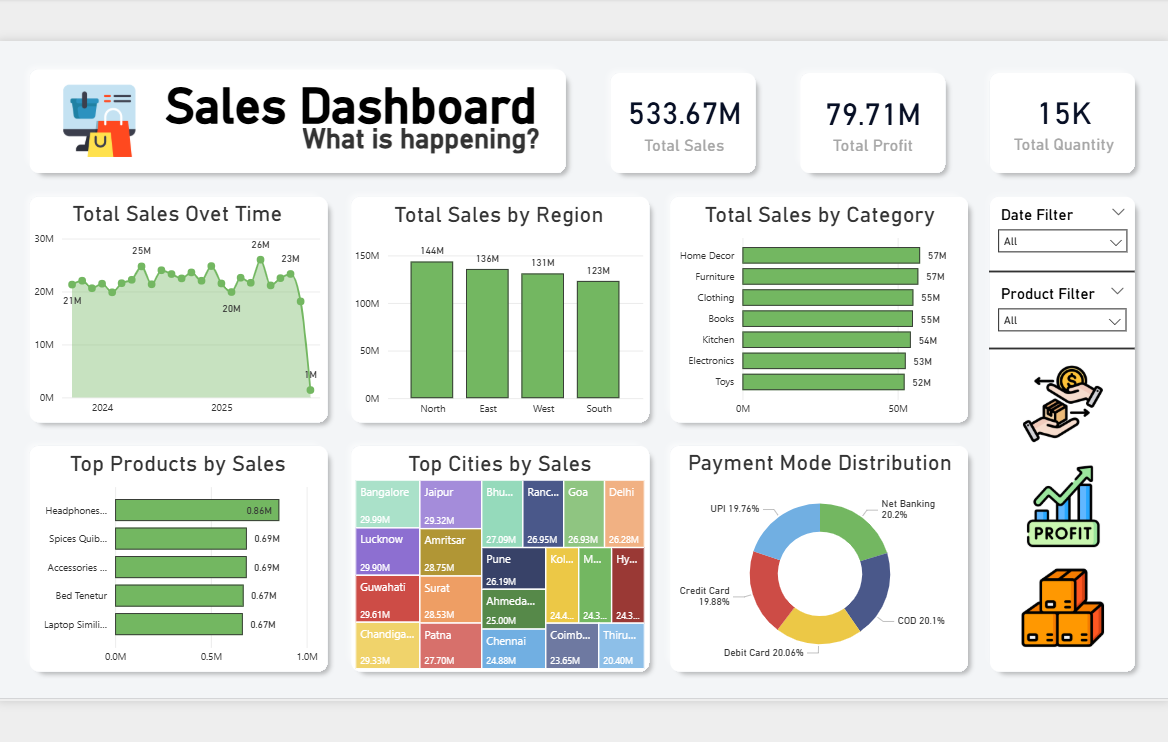

The page's visual inventory and layout, read from the dashboard file:
{"tool":"powerbi","page":{"name":"Sales","canvas":[1280,720],"ordinal":0},"visuals":[{"type":"shape","box":[152.3,31,467.1,80],"z":0},{"type":"image","box":[51.6,42.6,121.3,89],"z":1000},{"type":"card","fields":{"Values":["Ecommerce_Sales_Data_2024_2025.Total Sales"]},"box":[669.7,31,160,112.3],"z":2000},{"type":"card","fields":{"Values":["Ecommerce_Sales_Data_2024_2025.Total Profit"]},"box":[876.2,31.6,159.3,111.3],"z":3000},{"type":"card","fields":{"Values":["Ecommerce_Sales_Data_2024_2025.Total Quantity"]},"box":[1084.7,30.6,159.3,111.3],"z":4000},{"type":"areaChart","title":"Total Sales Ovet Time","fields":{"Category":["Ecommerce_Sales_Data_2024_2025.Order Date.Variation.Date Hierarchy.Year","Ecommerce_Sales_Data_2024_2025.Order Date.Variation.Date Hierarchy.Quarter","Ecommerce_Sales_Data_2024_2025.Order Date.Variation.Date Hierarchy.Month","Ecommerce_Sales_Data_2024_2025.Order Date.Variation.Date Hierarchy.Day"],"Y":["Ecommerce_Sales_Data_2024_2025.Total Sales"]},"box":[34.9,174.6,324.1,243.3],"z":5000},{"type":"clusteredColumnChart","fields":{"Category":["Ecommerce_Sales_Data_2024_2025.Region"],"Y":["Ecommerce_Sales_Data_2024_2025.Total Sales"]},"box":[385.1,175.2,325.1,243.1],"z":6000},{"type":"clusteredBarChart","fields":{"Category":["Ecommerce_Sales_Data_2024_2025.Category"],"Y":["Ecommerce_Sales_Data_2024_2025.Total Sales"]},"box":[735.5,175.2,325.1,243.1],"z":7000},{"type":"clusteredBarChart","title":"Top Products by Sales","fields":{"Y":["Ecommerce_Sales_Data_2024_2025.Total Sales"],"Category":["Ecommerce_Sales_Data_2024_2025.Product Name"]},"box":[34.9,447.4,325.2,242.3],"z":8000},{"type":"treemap","title":"Top Cities by Sales","fields":{"Group":["Ecommerce_Sales_Data_2024_2025.City"],"Values":["Ecommerce_Sales_Data_2024_2025.Total Sales"]},"box":[385.8,447.7,325.2,242.6],"z":9000},{"type":"donutChart","title":"Payment Mode Distribution","fields":{"Category":["Ecommerce_Sales_Data_2024_2025.Payment Mode"],"Y":["CountNonNull(Ecommerce_Sales_Data_2024_2025.Order ID)"]},"box":[735.5,446.3,325.2,243.3],"z":10000},{"type":"slicer","fields":{"Values":["Ecommerce_Sales_Data_2024_2025.Order Date.Variation.Date Hierarchy.Year","Ecommerce_Sales_Data_2024_2025.Order Date.Variation.Date Hierarchy.Month"]},"box":[1082.6,174.2,161.3,71],"z":11000},{"type":"slicer","fields":{"Values":["Ecommerce_Sales_Data_2024_2025.Product Details.Category","Ecommerce_Sales_Data_2024_2025.Product Details.Sub-Category","Ecommerce_Sales_Data_2024_2025.Product Details.Product Name"]},"box":[1082.6,260.6,160,71],"z":12000},{"type":"shape","box":[1082.4,245.5,159.3,12],"z":13000},{"type":"shape","box":[1082.4,331.7,159.3,7.6],"z":14000},{"type":"image","box":[1112.7,457.8,100.4,99.3],"z":15000},{"type":"image","box":[1112.7,568.5,100.4,100.4],"z":16000},{"type":"image","box":[1112.7,345.9,100.4,100.4],"z":17000},{"type":"shape","box":[280,80,365.2,51.6],"z":18000}]}

Visuals, with their boxes on the page's 1280x720 design canvas (x1, y1, x2, y2). These are canvas units, not pixel positions in the 1168x742 screenshot, which may show the page scaled, cropped or inside an application window:
shape: bbox=(152, 31, 619, 111)
image: bbox=(52, 43, 173, 132)
card - Ecommerce_Sales_Data_2024_2025.Total Sales: bbox=(670, 31, 830, 143)
card - Ecommerce_Sales_Data_2024_2025.Total Profit: bbox=(876, 32, 1036, 143)
card - Ecommerce_Sales_Data_2024_2025.Total Quantity: bbox=(1085, 31, 1244, 142)
"Total Sales Ovet Time" areaChart: bbox=(35, 175, 359, 418)
clusteredColumnChart - Ecommerce_Sales_Data_2024_2025.Region x Ecommerce_Sales_Data_2024_2025.Total Sales: bbox=(385, 175, 710, 418)
clusteredBarChart - Ecommerce_Sales_Data_2024_2025.Category x Ecommerce_Sales_Data_2024_2025.Total Sales: bbox=(736, 175, 1061, 418)
"Top Products by Sales" clusteredBarChart: bbox=(35, 447, 360, 690)
"Top Cities by Sales" treemap: bbox=(386, 448, 711, 690)
"Payment Mode Distribution" donutChart: bbox=(736, 446, 1061, 690)
slicer - Ecommerce_Sales_Data_2024_2025.Order Date.Variation.Date Hierarchy.Year x Ecommerce_Sales_Data_2024_2025.Order Date.Variation.Date Hierarchy.Month: bbox=(1083, 174, 1244, 245)
slicer - Ecommerce_Sales_Data_2024_2025.Product Details.Category x Ecommerce_Sales_Data_2024_2025.Product Details.Sub-Category: bbox=(1083, 261, 1243, 332)
shape: bbox=(1082, 246, 1242, 258)
shape: bbox=(1082, 332, 1242, 339)
image: bbox=(1113, 458, 1213, 557)
image: bbox=(1113, 568, 1213, 669)
image: bbox=(1113, 346, 1213, 446)
shape: bbox=(280, 80, 645, 132)
